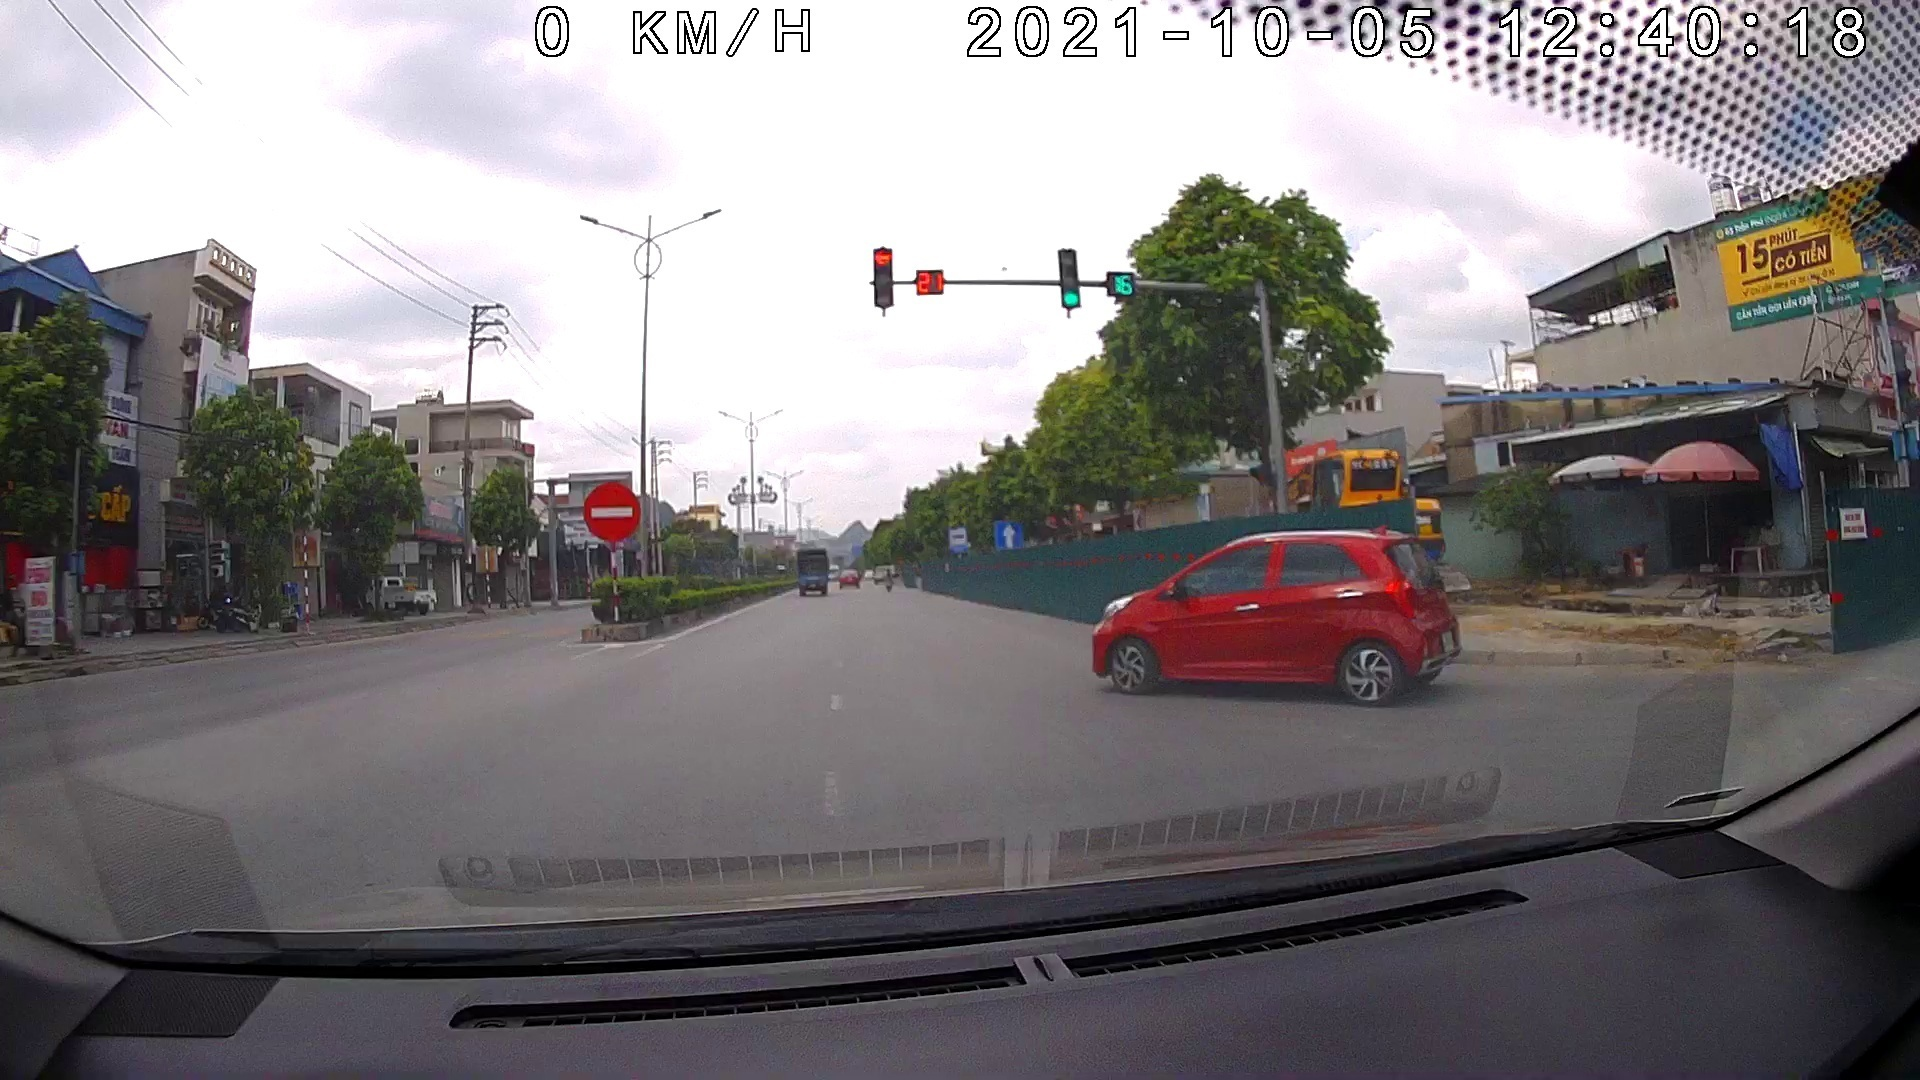Bien khac: (992, 520, 1025, 550), (945, 524, 967, 556)
Cam di nguoc chieu: (582, 480, 642, 549)
